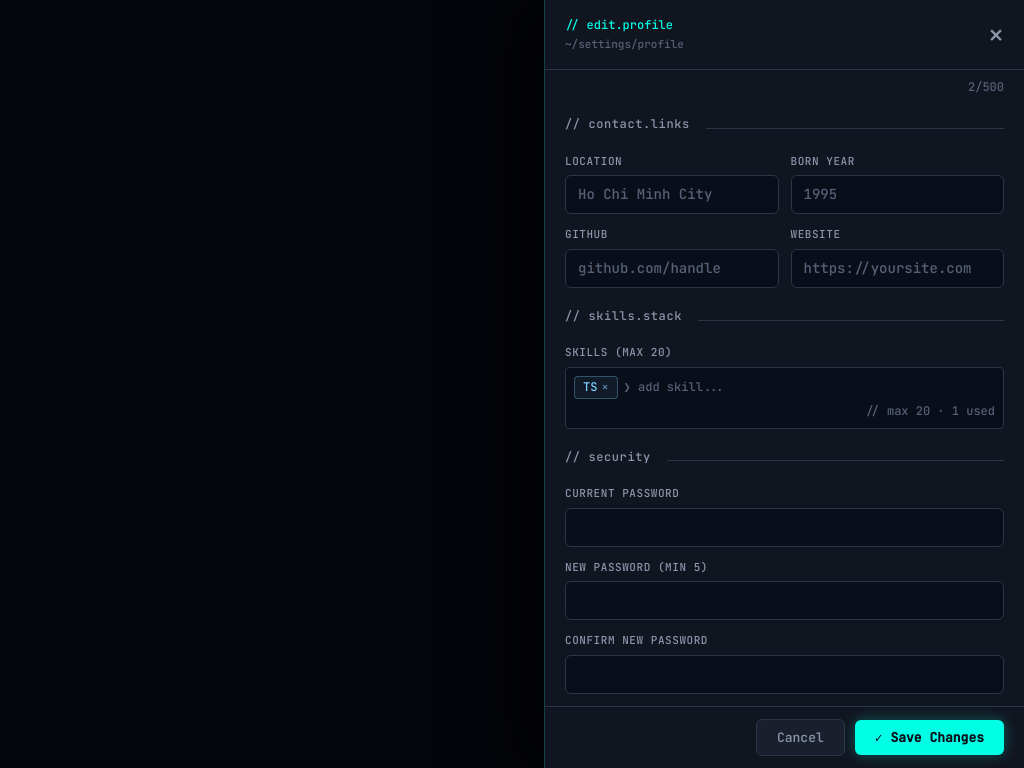
EditProfileDrawer (T-376, T-222, FR-11.3) › T-376: SkillChipInput uses NEON_COLORS — new skill chip added correctly
This screenshot has width=1024, height=768.
(page scrolled)
Type "React" into the field labelled "❯ add skill...".
click(809, 387); type("React")  # box left=624, top=376, right=995, bottom=399
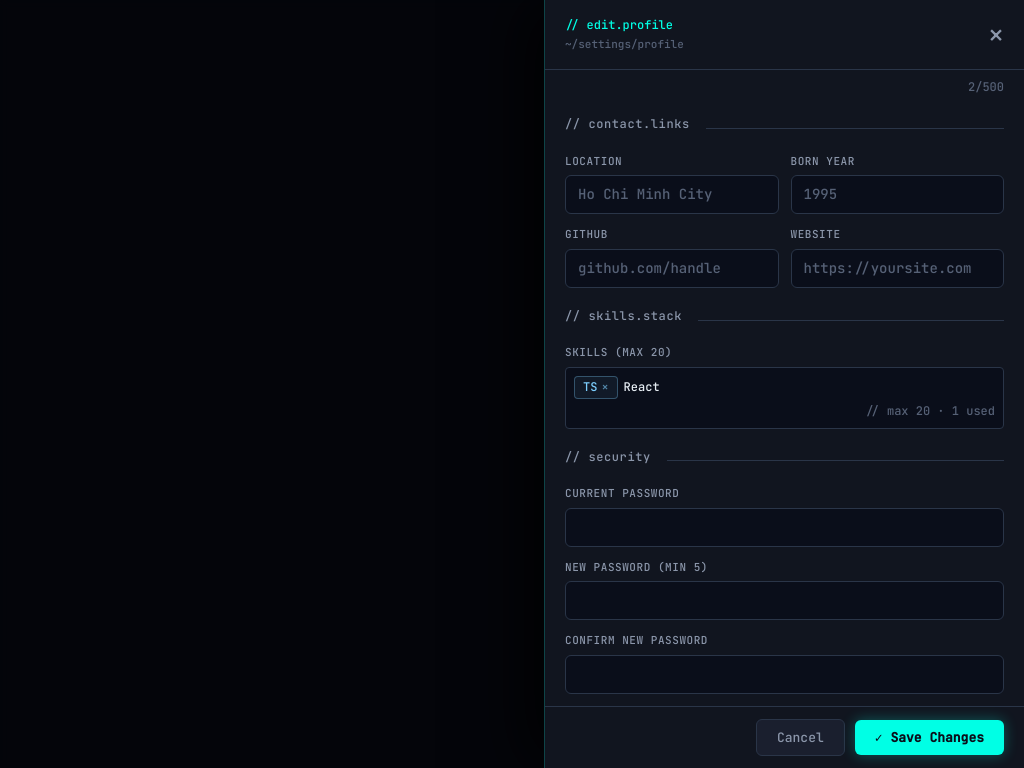
Press Enter in the field named "add skill", box left=624, top=376, right=995, bottom=399
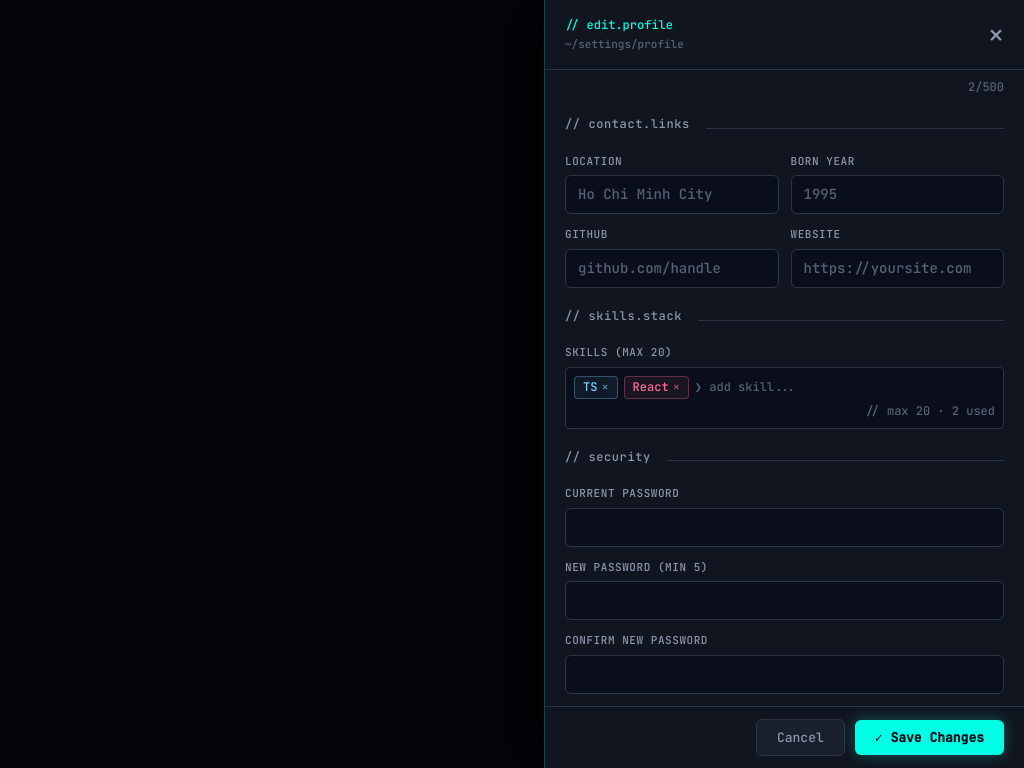
Now the text "React" is shown, box left=633, top=379, right=669, bottom=395
